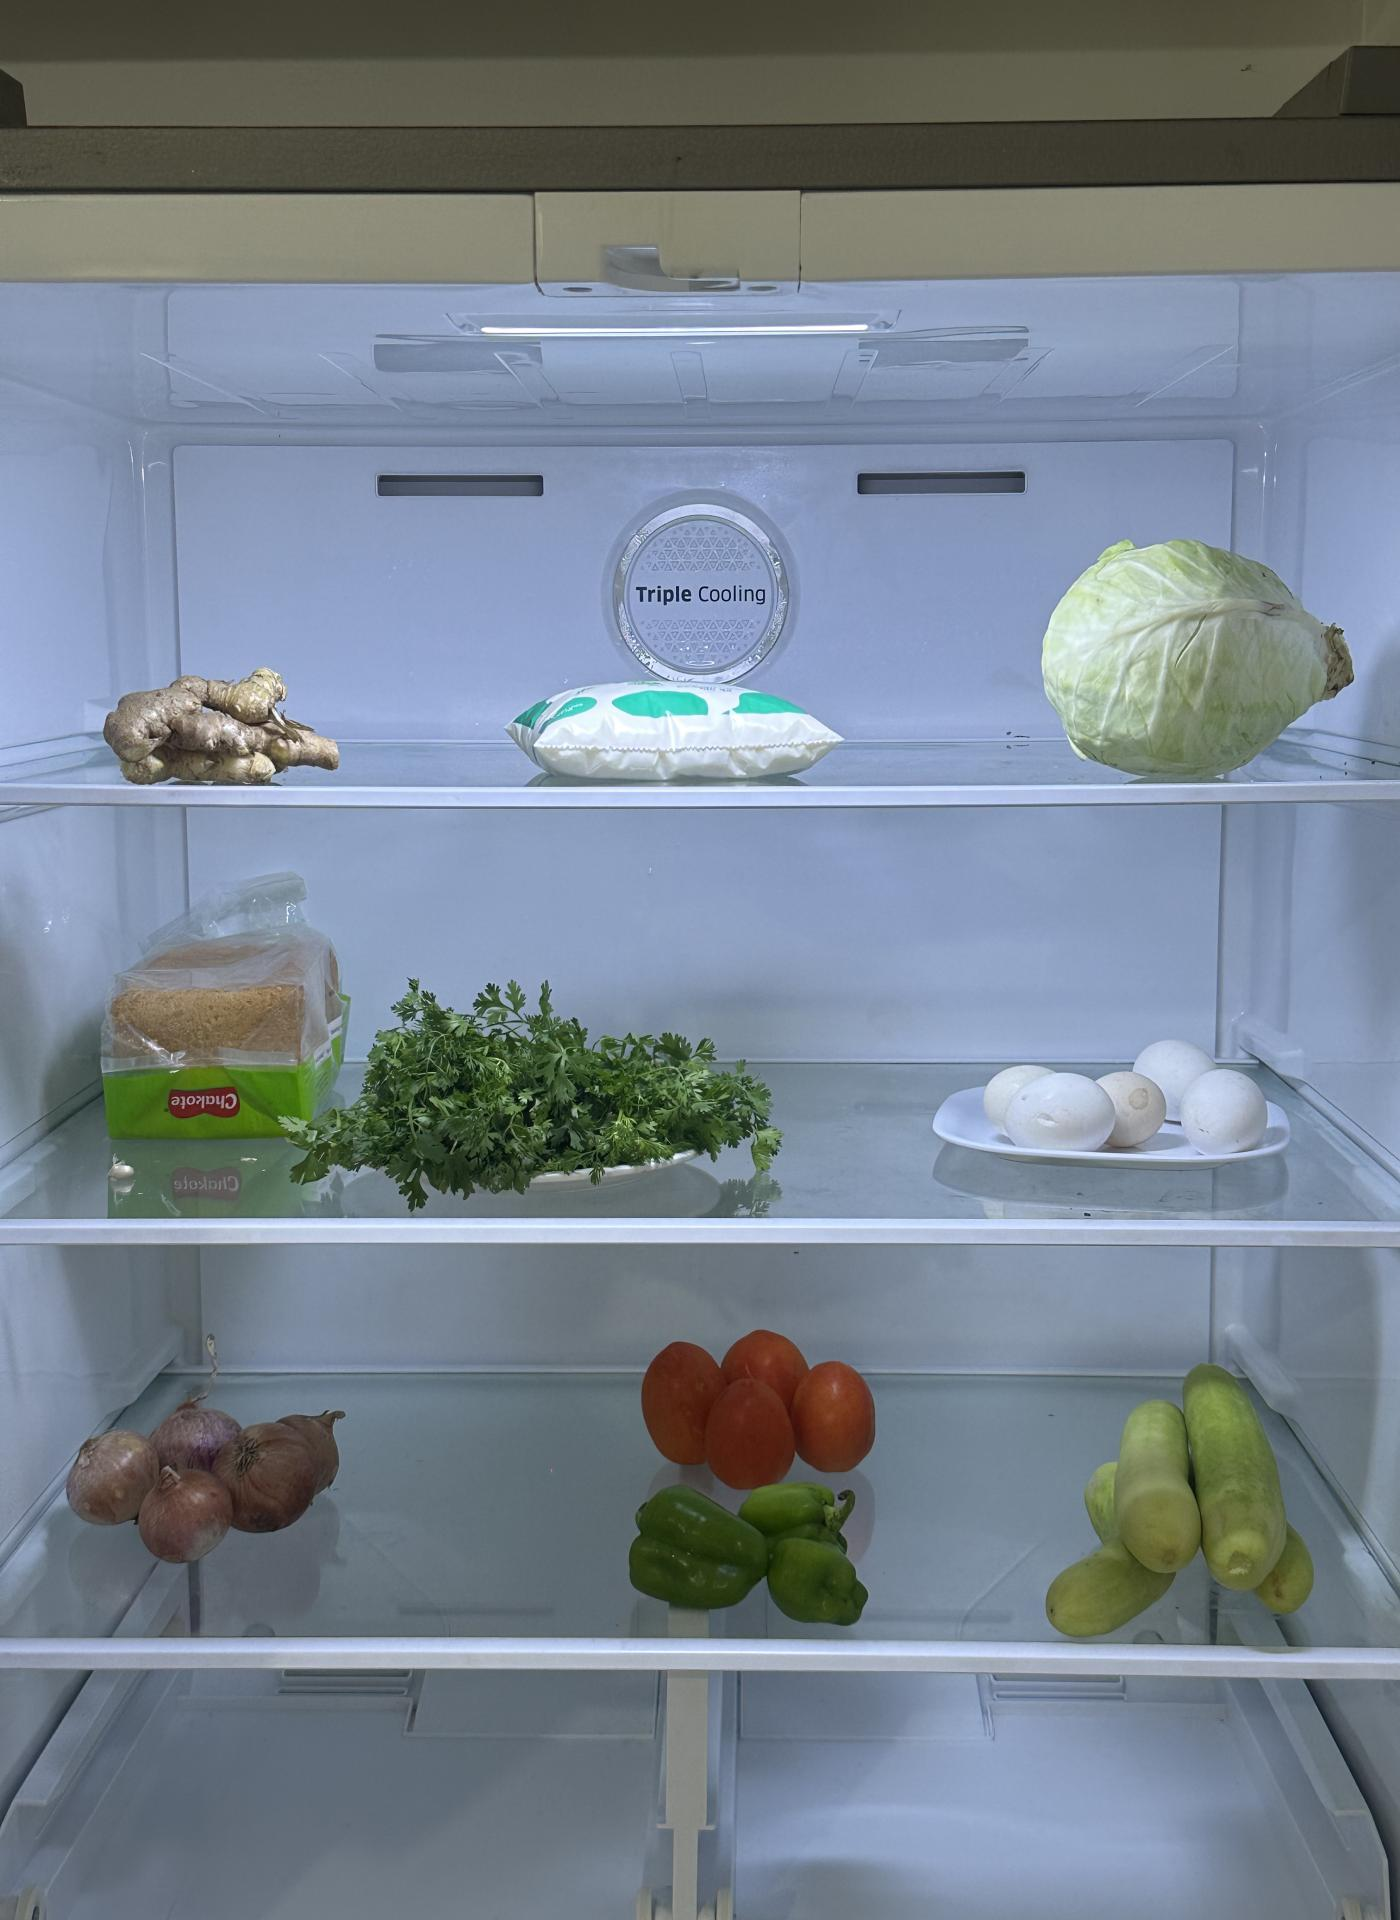bread: (103, 930, 355, 1142)
cabbage: (1042, 529, 1354, 775)
capsicum: (622, 1473, 869, 1637)
coriander: (376, 996, 765, 1191)
cucumber: (1042, 1368, 1321, 1649)
egg: (963, 1035, 1276, 1191)
ginger: (103, 653, 340, 795)
milk: (492, 668, 844, 780)
onion: (66, 1391, 361, 1561)
tomato: (631, 1315, 892, 1477)
